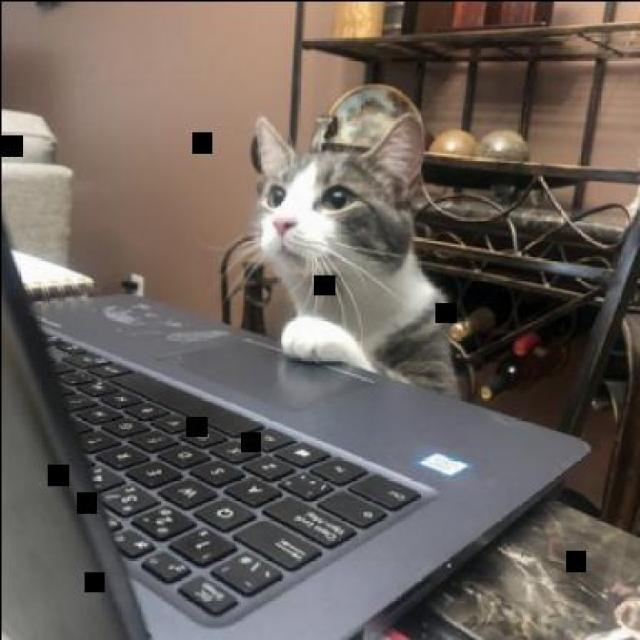unauthorized: (222, 108, 460, 397)
